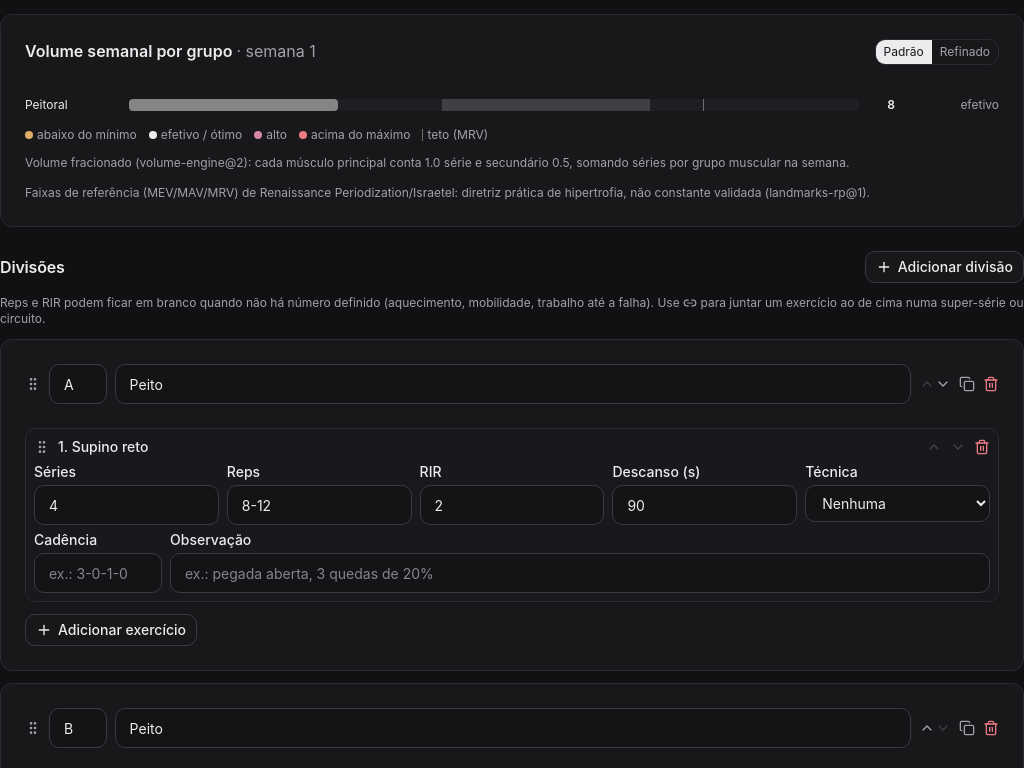
Test: integridade da sequência semanal › recusa um rótulo já usado antes de misturar as duas divisões na sequência
(page scrolled)
Type "B" into the field named "Rótulo da divisão 1" at point(78, 384), box [49, 364, 107, 404]
(page scrolled)
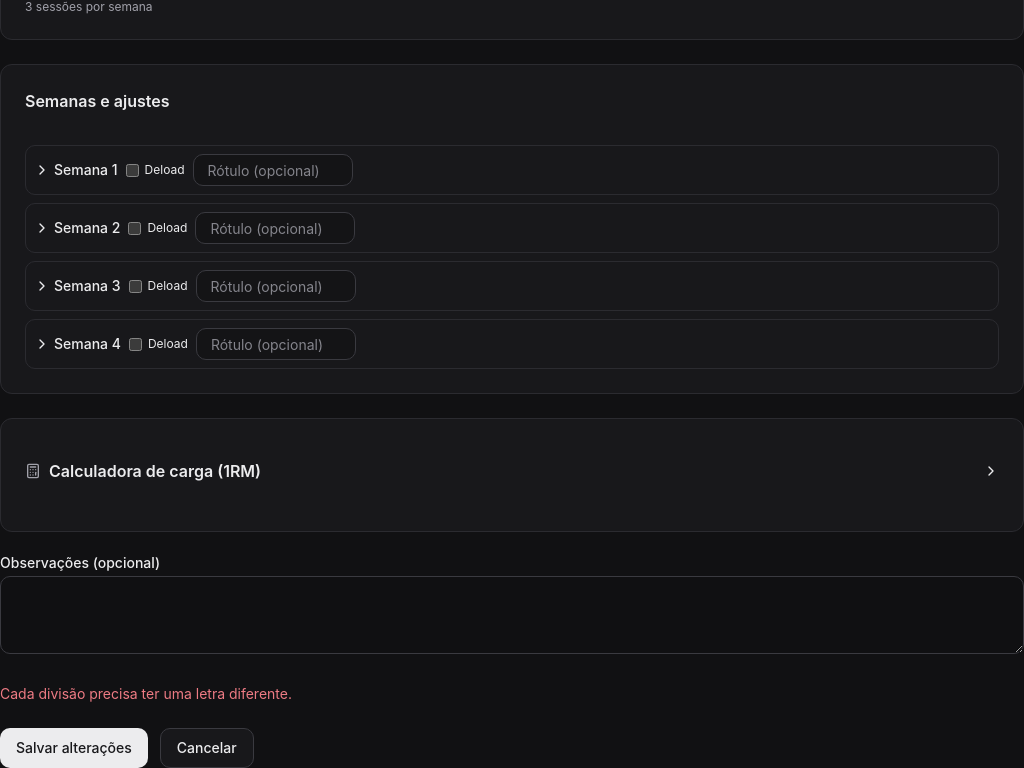
Expected: the text "Cada divisão precisa ter uma letra diferente." is shown, [0, 685, 292, 702]
